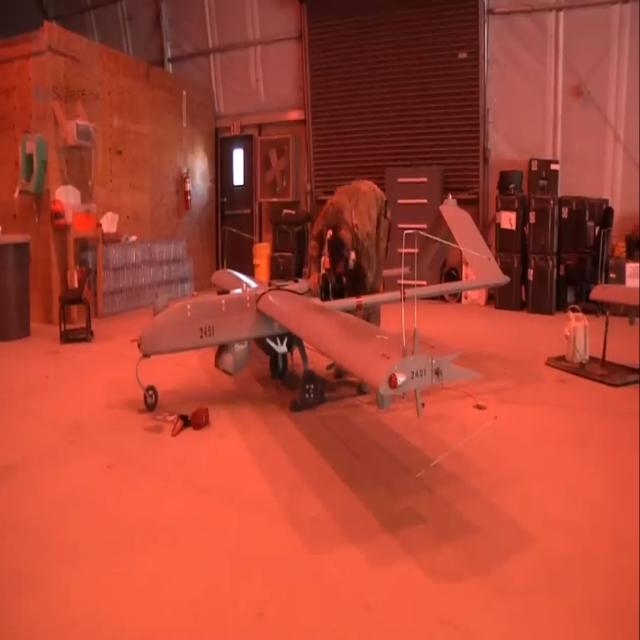drones: (140, 248, 483, 455)
